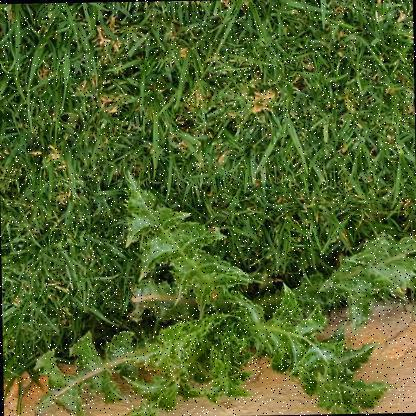Weeds: (30, 162, 415, 415)
